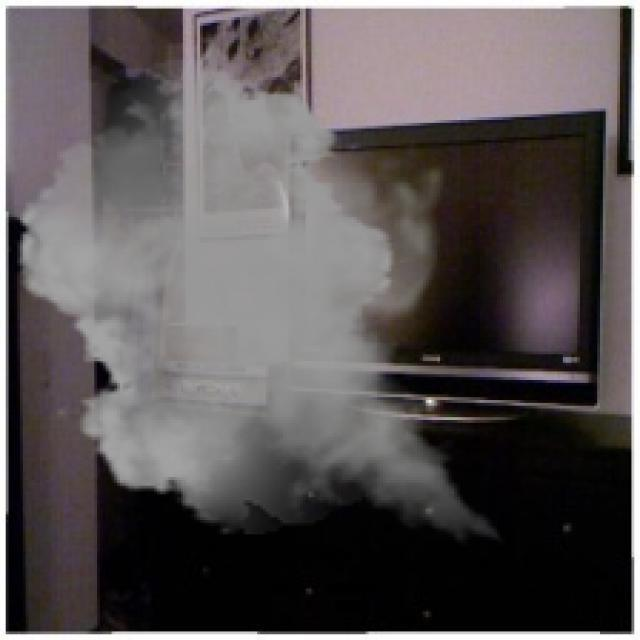Smoke: (2, 32, 528, 554)
